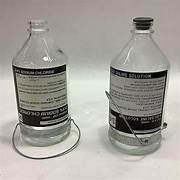Iv_Bottle: (109, 17, 169, 154), (12, 20, 70, 145)
